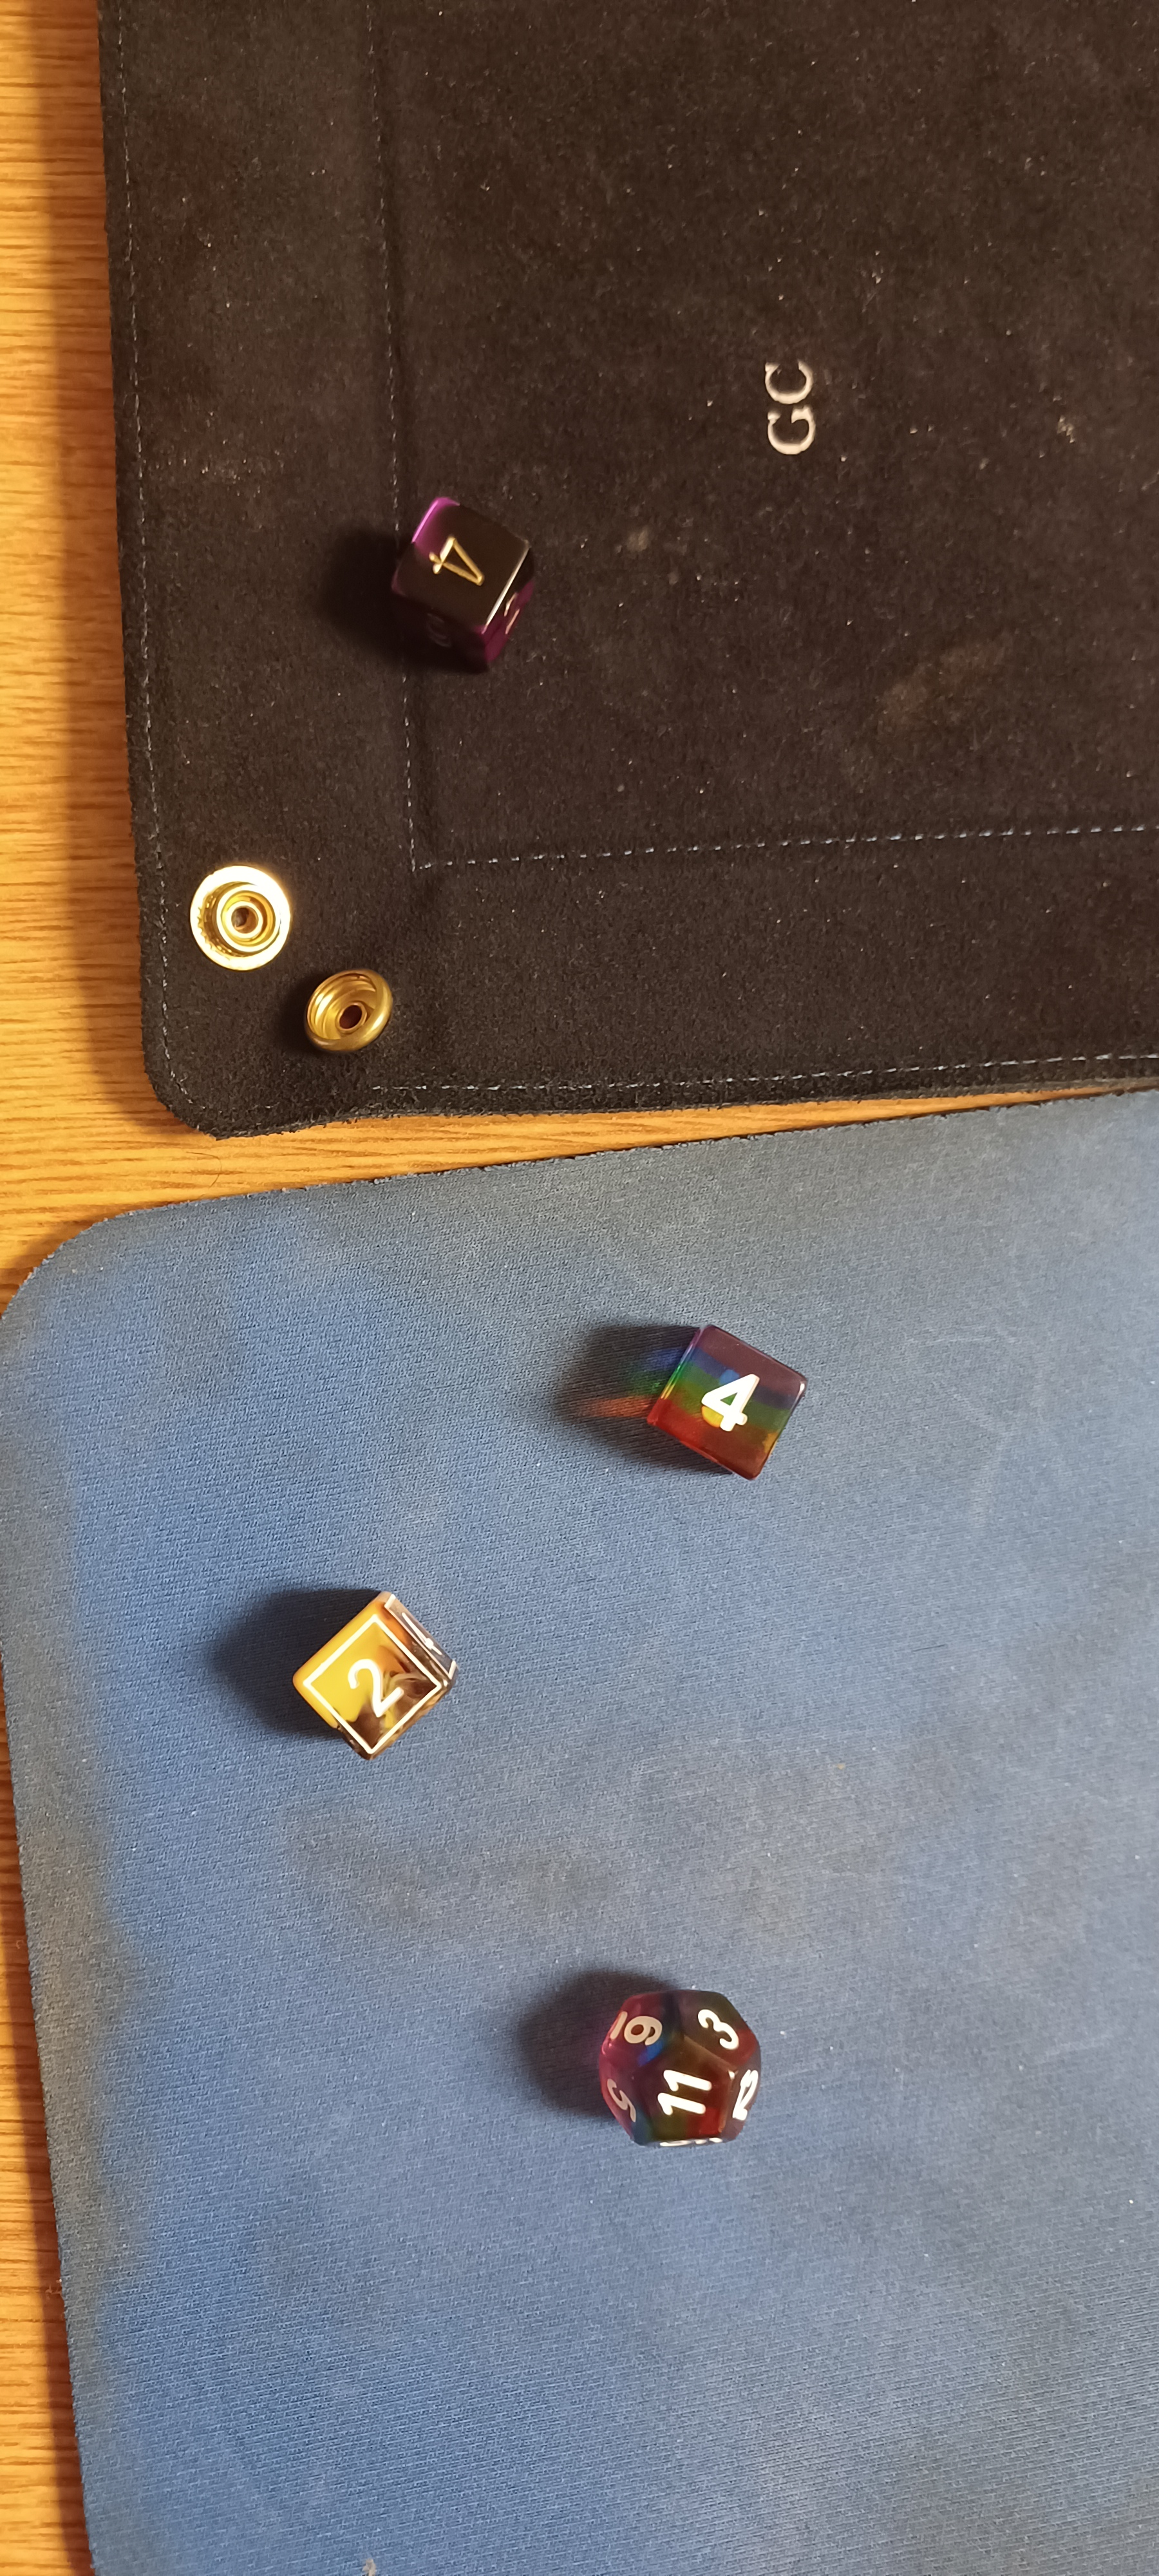eleven: (555, 1945, 813, 2187)
four: (594, 1265, 864, 1534), (361, 467, 575, 692)
two: (245, 1556, 494, 1797)
